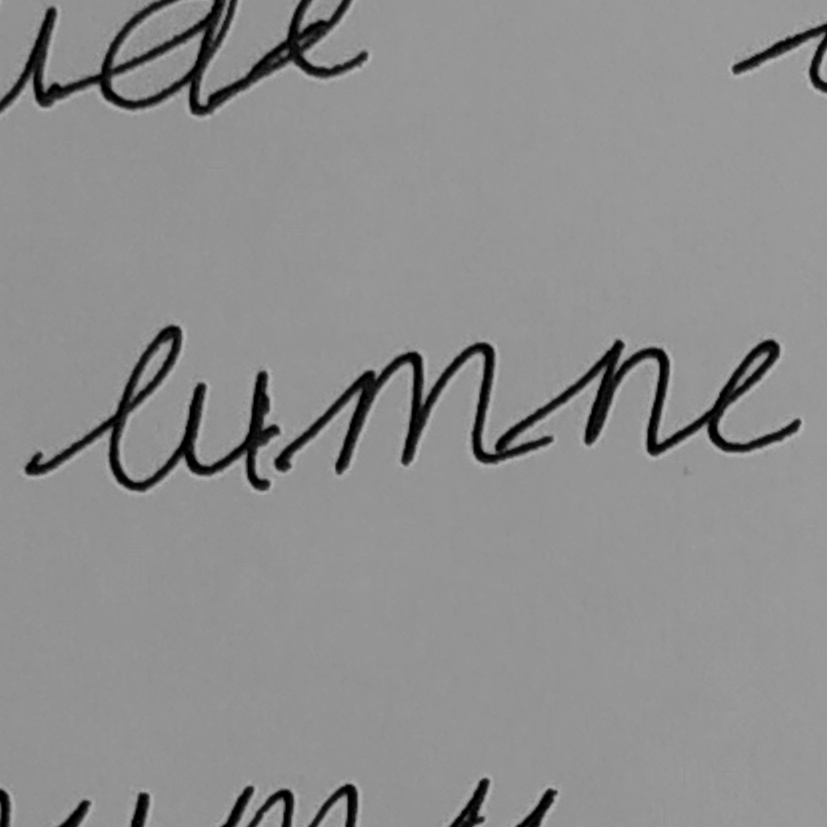e: (699, 333, 805, 458)
l: (102, 320, 188, 497)
m: (330, 338, 498, 475)
n: (579, 337, 675, 459)
u: (178, 366, 279, 495)
